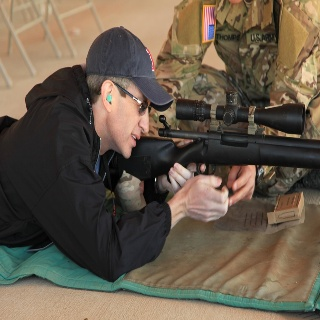rifle: (109, 97, 320, 201)
